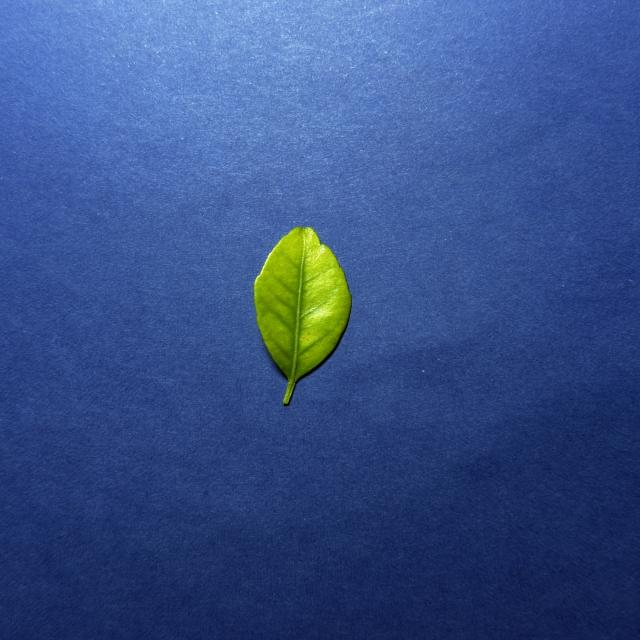greening: (254, 227, 351, 404)
